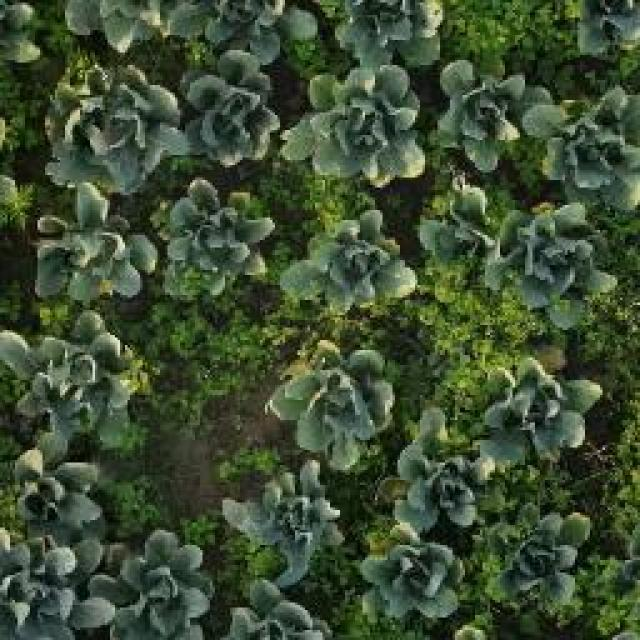cabbage: (288, 64, 428, 188), (0, 316, 137, 438), (221, 458, 348, 582), (494, 200, 614, 323), (270, 347, 395, 465), (36, 184, 158, 300), (283, 210, 421, 312), (532, 77, 640, 207), (92, 526, 216, 639), (169, 46, 283, 166), (53, 70, 165, 188), (394, 408, 501, 529), (164, 179, 274, 291), (483, 358, 605, 456), (355, 523, 465, 627), (0, 442, 112, 542), (0, 539, 108, 640), (433, 57, 529, 168), (491, 510, 596, 608), (165, 0, 317, 62), (416, 175, 507, 273), (321, 0, 445, 62), (224, 581, 335, 640)
